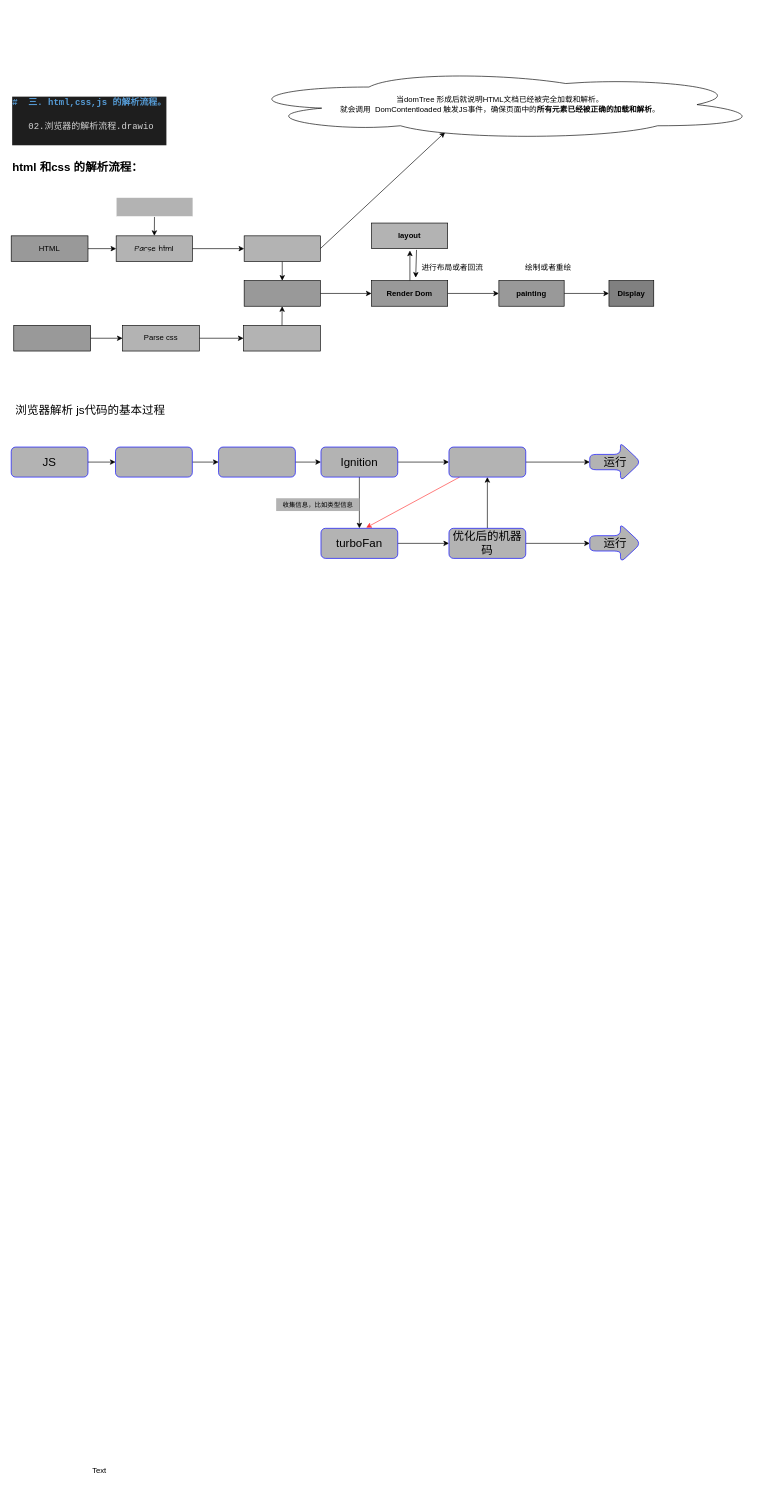
Image size: 774x1488. Some labels were removed from this diagram. The box of each missing label's shape, as (x1, y1, x2, y2) in pixels:
AST 抽象语法树: (218, 446, 295, 477)
Attachment: (244, 280, 320, 306)
byteCode 字节码: (448, 446, 526, 477)
CSS: (13, 325, 91, 351)
DOM: (116, 197, 193, 217)
Dom Tree: (244, 235, 320, 261)
Parse: (115, 446, 192, 477)
style rules: (243, 325, 320, 351)
